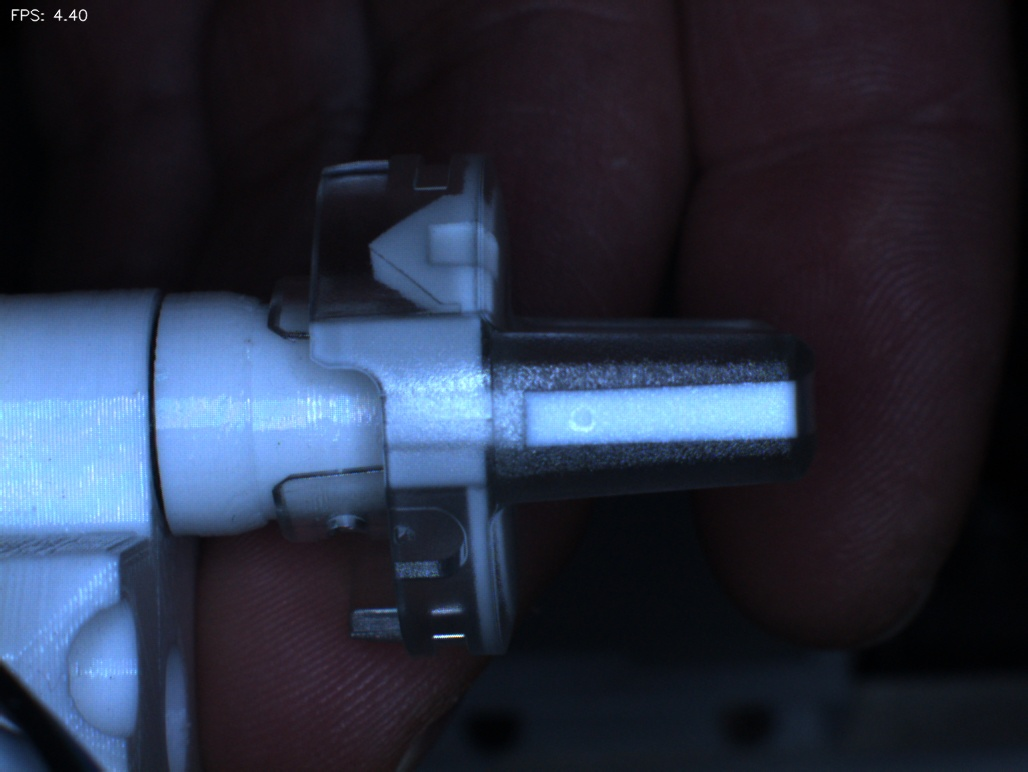DentOk: (346, 223, 414, 307)
